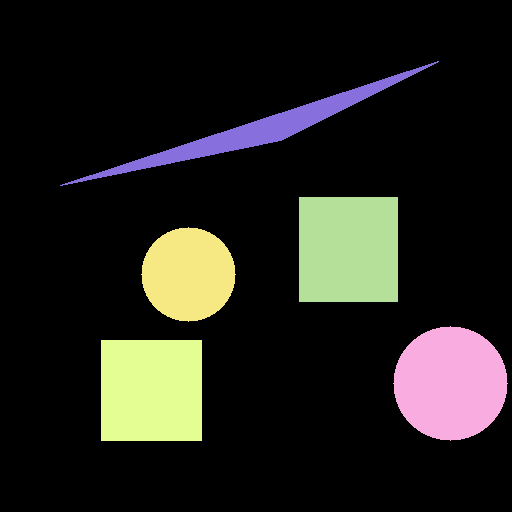circle: (393, 326, 507, 440), (141, 227, 235, 321)
square: (299, 197, 397, 301), (101, 340, 201, 440)
triangle: (60, 61, 438, 185)
